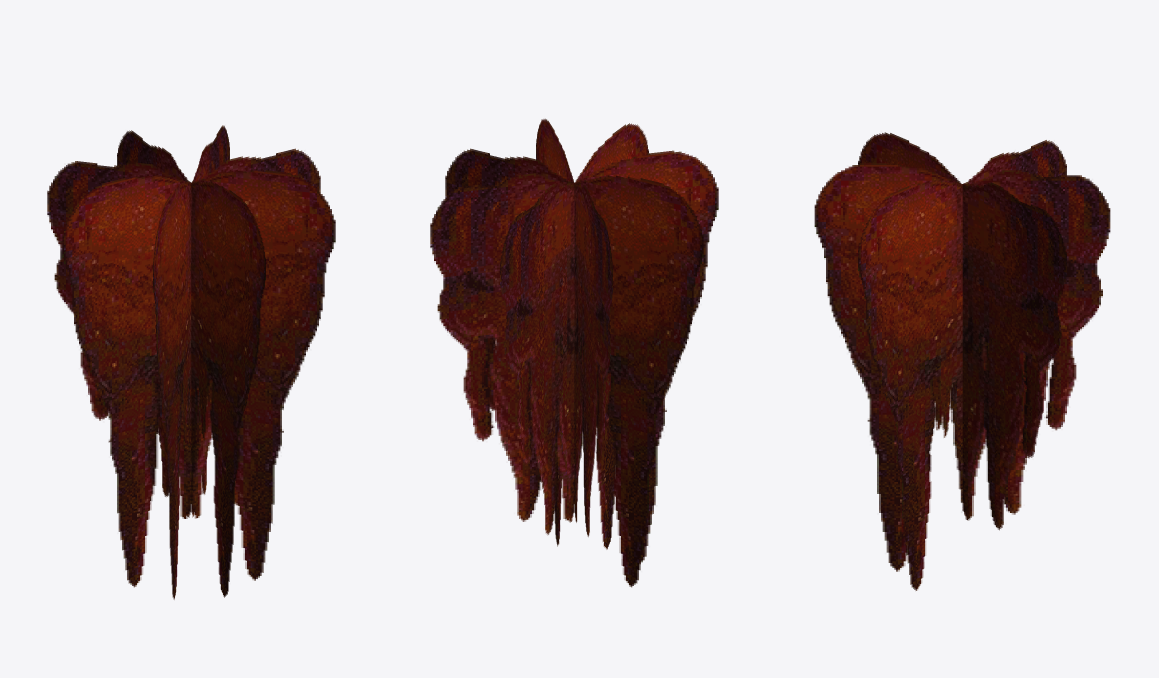
The model's file is Meat2.glb.
3 renders of one model, left to right at view 1: azimuth 30°, elevation 25°; view 2: azimuth 150°, elevation 25°; view 3: azimuth 270°, elevation 25°, orthographic.
Parts seen in each view (by area): view 1: Meat2; view 2: Meat2; view 3: Meat2.
Boxes of the visible parts, x1,y1,x2,y2 form: Meat2: (47,125,335,599); Meat2: (430,118,718,587); Meat2: (814,132,1110,590).
Bounding box in the file's own units: 0.6655 × 1 × 0.6655.
1 material, 1 textured.
